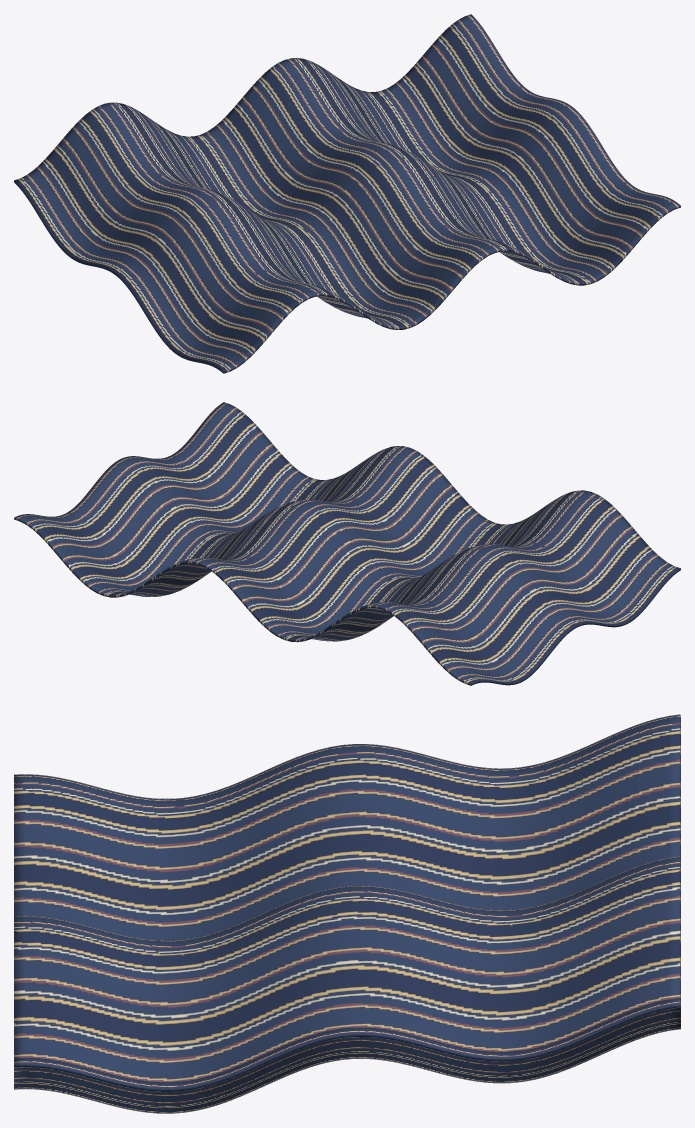
The model's file is aso-oke-stripes.glb.
3 renders of one model, top to bottom at view 1: azimuth 30°, elevation 25°; view 2: azimuth 150°, elevation 25°; view 3: azimuth 270°, elevation 25°, orthographic. The views are drawn at different scales.
Parts seen in each view (by area): view 1: Woven stripe material study; view 2: Woven stripe material study; view 3: Woven stripe material study.
Part boxes in pixels (<box>): Woven stripe material study: <box>14,14,680,373</box>; Woven stripe material study: <box>14,402,680,685</box>; Woven stripe material study: <box>14,714,680,1113</box>.
Size of the model in its own units: 3.15 by 0.7238 by 2.5.
1 material, 1 textured.
